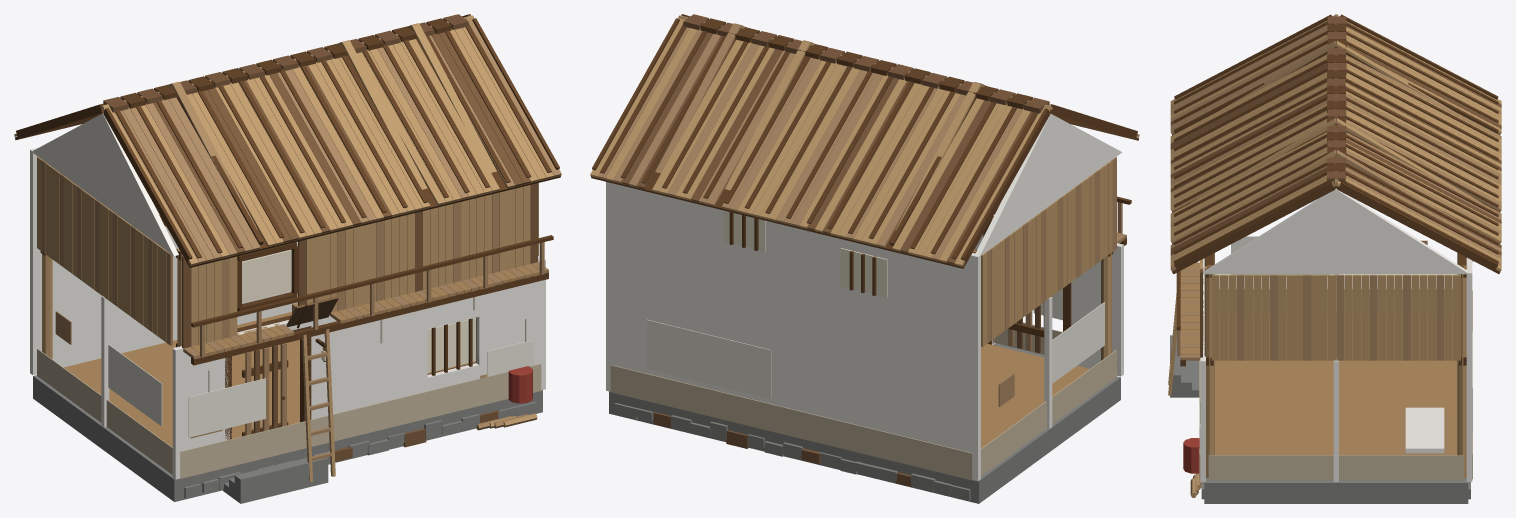
Rendered from lib_house_c2.far.glb.
The picture shows the model from 3 angles, left to right: view 1: azimuth 30°, elevation 25°; view 2: azimuth 150°, elevation 25°; view 3: azimuth 270°, elevation 25°; orthographic projection. The views are drawn at different scales.
Parts seen in each view (by area): view 1: hc_c2_body; view 2: hc_c2_body; view 3: hc_c2_body.
Boxes of the visible parts, <box> form: hc_c2_body: <box>14,14,561,503</box>; hc_c2_body: <box>590,14,1139,503</box>; hc_c2_body: <box>1168,14,1501,503</box>.
Bounding box in the file's own units: 7.2 × 6.5 × 6.01.
Materials: 1 (1 with a texture image).
